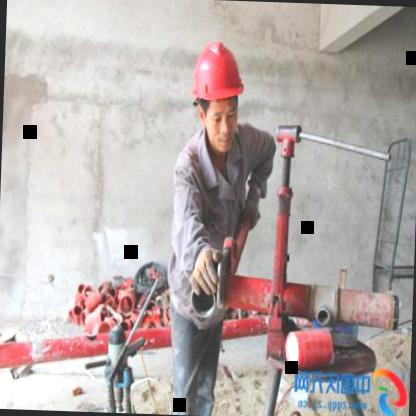helmet: (186, 32, 250, 156)
